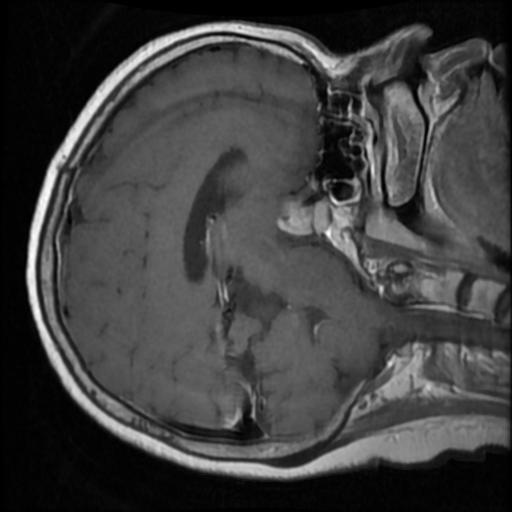pituitary tumour: (277, 201, 329, 235)
